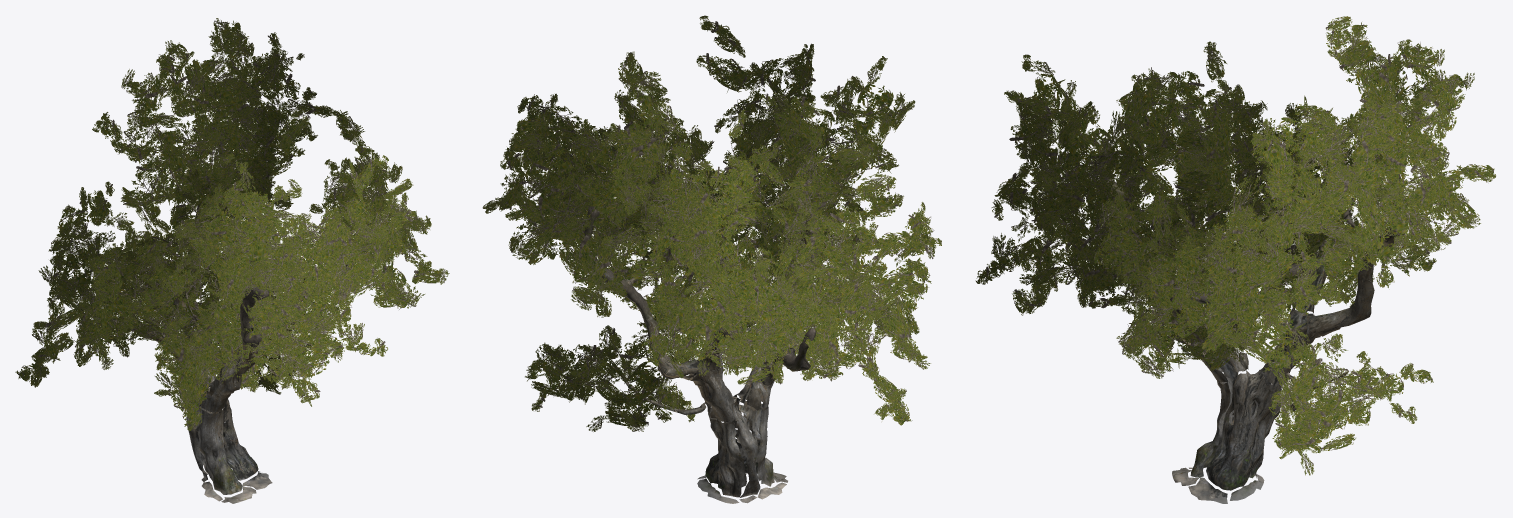
File: broadleaf.obj
The picture shows the model from 3 angles, left to right: view 1: azimuth 30°, elevation 25°; view 2: azimuth 150°, elevation 25°; view 3: azimuth 270°, elevation 25°; orthographic projection. The views are drawn at different scales.
Visible parts, largest first — view 1: broadleaf; view 2: broadleaf; view 3: broadleaf.
Boxes of the visible parts, bbox=[...] form: broadleaf: bbox=[15, 18, 449, 503]; broadleaf: bbox=[482, 15, 941, 503]; broadleaf: bbox=[975, 16, 1495, 503].
Size of the model in its own units: 0.94 by 0.9976 by 0.9637.
2 materials, 2 textured.
